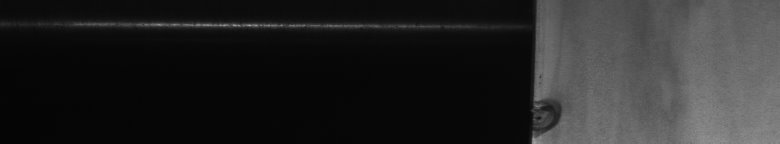hb: (544, 88, 568, 136)
